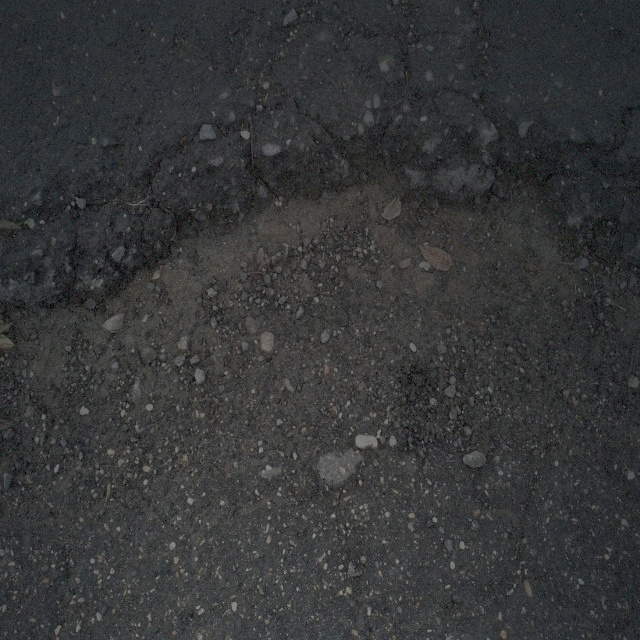pothole: (81, 140, 557, 448)
